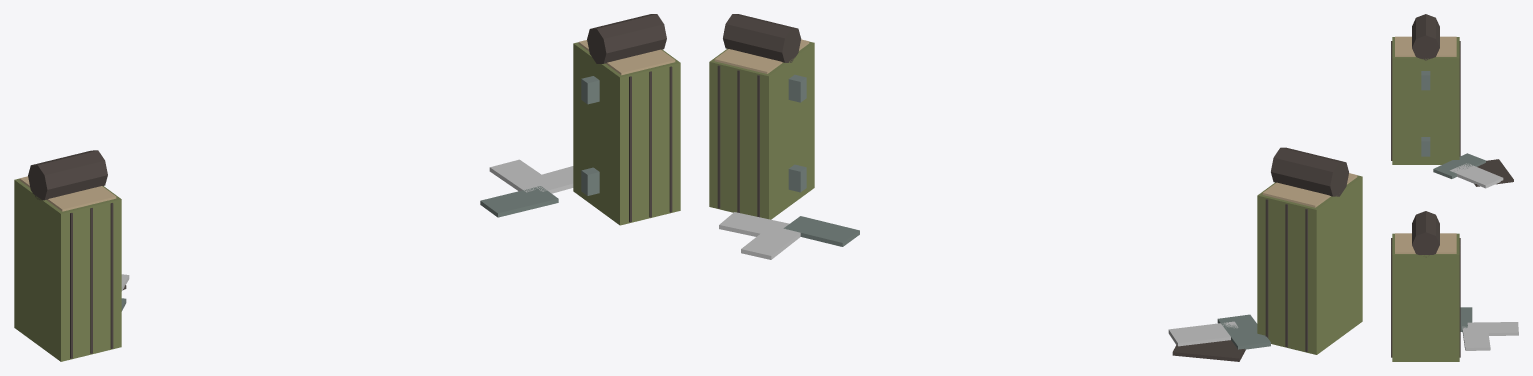
Rendered from SM_PuertaViaDoble_v3_MallaEspino_e3_Brecha_LOD0.fbx.
3 views of the same model, side by side, from view 1: azimuth 30°, elevation 25°; view 2: azimuth 150°, elevation 25°; view 3: azimuth 270°, elevation 25° (orthographic). The views are drawn at different scales.
Parts seen in each view (by area): view 1: SM_puerta_via_doble_v15_LOD0, Hoja_E; view 2: SM_puerta_via_doble_v15_LOD0, Hoja_E; view 3: SM_puerta_via_doble_v15_LOD0, Hoja_O.
Boxes of the visible parts, left/top/right/bottom form: SM_puerta_via_doble_v15_LOD0: left=14, top=14, right=680, bottom=361; Hoja_E: left=581, top=76, right=599, bottom=195; SM_puerta_via_doble_v15_LOD0: left=709, top=14, right=1362, bottom=361; Hoja_E: left=788, top=74, right=806, bottom=192; SM_puerta_via_doble_v15_LOD0: left=1391, top=14, right=1518, bottom=361; Hoja_O: left=1421, top=71, right=1430, bottom=156.
Size of the model in its own units: 9.2 by 2.55 by 2.28.
